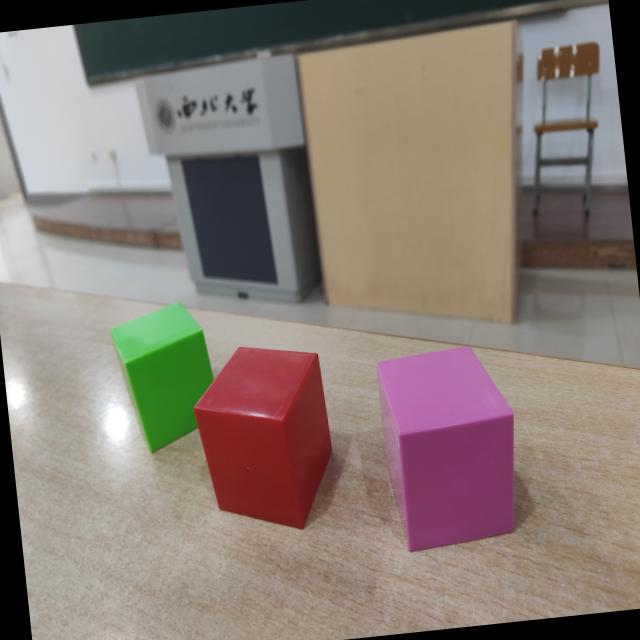green: (110, 305, 215, 454)
pink: (375, 350, 519, 555)
red: (193, 347, 334, 532)
